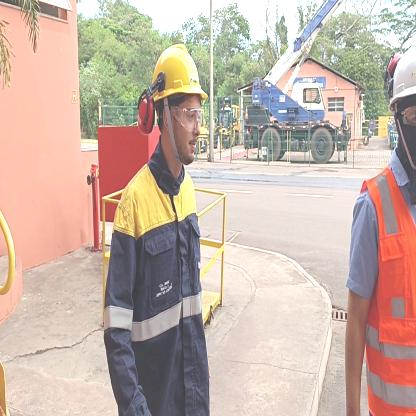Balaclava: (384, 103, 416, 188)
C_eletrica: (107, 168, 210, 416)
Capacete: (136, 44, 210, 98), (383, 42, 416, 101)
colete: (348, 179, 416, 416)
